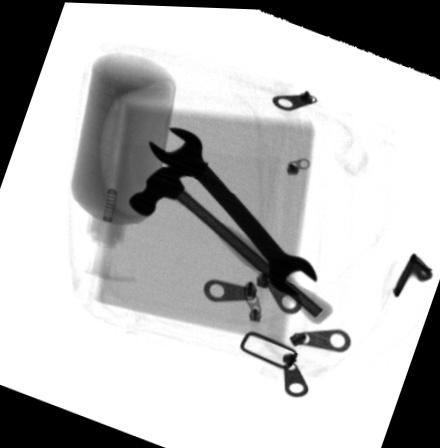Hammer: (125, 158, 334, 323)
Wrench: (148, 123, 323, 298)
